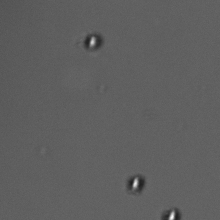Living Cell: (80, 31, 104, 51), (125, 173, 145, 194)
